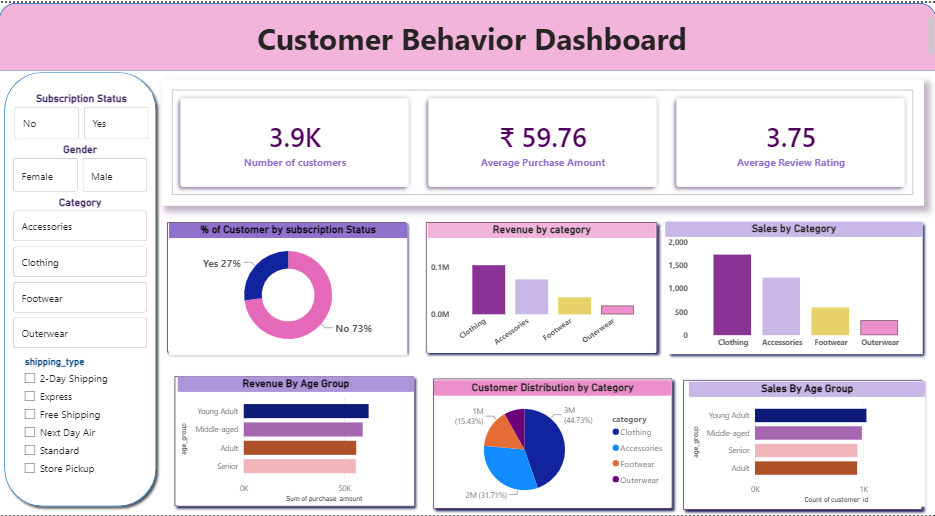

This screenshot's page, from the dashboard's own definition file:
{"tool":"powerbi","page":{"name":"Page 1","canvas":[1500,820],"ordinal":0},"visuals":[{"type":"cardVisual","fields":{"Data":["my_data.Number of customers","my_data.Average Purchase Amount","my_data.Average Review Rating"]},"box":[260,122.5,1220,202.5],"z":0},{"type":"shape","box":[0,0,1500,108.3],"z":1000},{"type":"textbox","box":[20,18.3,1480,71.7],"z":2000},{"type":"shape","box":[260,342,400,226],"z":3000},{"type":"donutChart","title":"% of Customer by subscription Status","fields":{"Category":["my_data.subscription_status"],"Y":["CountNonNull(my_data.customer_id)"]},"box":[271.7,351.7,381.7,211.7],"z":4000},{"type":"shape","box":[1062,342,424,228],"z":5000},{"type":"shape","box":[674,342,388,226],"z":6000},{"type":"clusteredColumnChart","title":"Revenue by category","fields":{"Category":["my_data.category"],"Y":["Sum(my_data.purchase_amount)"]},"box":[685,351.7,365,208.3],"z":7000},{"type":"clusteredColumnChart","title":"Sales by Category","fields":{"Category":["my_data.category"],"Y":["CountNonNull(my_data.customer_id)"]},"box":[1066.7,350,411.7,211.7],"z":8000},{"type":"shape","box":[0,102,260,712],"z":9000},{"type":"advancedSlicerVisual","title":"Subscription Status","fields":{"Values":["my_data.subscription_status"]},"box":[20,142,224,82],"z":10000},{"type":"advancedSlicerVisual","title":"Gender","fields":{"Values":["my_data.gender"]},"box":[18,224,224,84],"z":11000},{"type":"advancedSlicerVisual","title":"Category","fields":{"Values":["my_data.category"]},"box":[18,308,224,252],"z":12000},{"type":"slicer","title":"Category","fields":{"Values":["my_data.shipping_type"]},"box":[28,560,208,218],"z":13000},{"type":"shape","box":[272,588,400,226],"z":13002},{"type":"clusteredBarChart","title":"Revenue By Age Group","fields":{"Category":["my_data.age_group"],"Y":["Sum(my_data.purchase_amount)"]},"box":[286,598,378,206],"z":13003},{"type":"shape","box":[1086,594,400,226],"z":13004},{"type":"shape","box":[686,592,400,226],"z":13005},{"type":"pieChart","title":"Customer Distribution by Category","fields":{"Category":["my_data.category"],"Y":["Sum(my_data.customer_id)"]},"box":[696,604,380,202],"z":13006},{"type":"clusteredBarChart","title":"Sales By Age Group","fields":{"Category":["my_data.age_group"],"Y":["CountNonNull(my_data.customer_id)"]},"box":[1104,606,378,200],"z":13007}]}

Visuals, with their boxes in screenshot pixels (x1, y1, x2, y2), scaled from the page's 1500x820 canvas onto the 935x516 screenshot:
cardVisual - my_data.Number of customers x my_data.Average Purchase Amount: [left=162, top=77, right=923, bottom=205]
shape: [left=0, top=0, right=934, bottom=68]
textbox: [left=12, top=12, right=934, bottom=57]
shape: [left=162, top=215, right=411, bottom=357]
"% of Customer by subscription Status" donutChart: [left=169, top=221, right=407, bottom=355]
shape: [left=662, top=215, right=926, bottom=359]
shape: [left=420, top=215, right=662, bottom=357]
"Revenue by category" clusteredColumnChart: [left=427, top=221, right=654, bottom=352]
"Sales by Category" clusteredColumnChart: [left=665, top=220, right=922, bottom=353]
shape: [left=0, top=64, right=162, bottom=512]
"Subscription Status" advancedSlicerVisual: [left=12, top=89, right=152, bottom=141]
"Gender" advancedSlicerVisual: [left=11, top=141, right=151, bottom=194]
"Category" advancedSlicerVisual: [left=11, top=194, right=151, bottom=352]
"Category" slicer: [left=17, top=352, right=147, bottom=490]
shape: [left=170, top=370, right=419, bottom=512]
"Revenue By Age Group" clusteredBarChart: [left=178, top=376, right=414, bottom=506]
shape: [left=677, top=374, right=926, bottom=515]
shape: [left=428, top=373, right=677, bottom=515]
"Customer Distribution by Category" pieChart: [left=434, top=380, right=671, bottom=507]
"Sales By Age Group" clusteredBarChart: [left=688, top=381, right=924, bottom=507]
